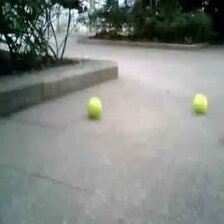tennis: (191, 94, 206, 112), (88, 97, 101, 117)
